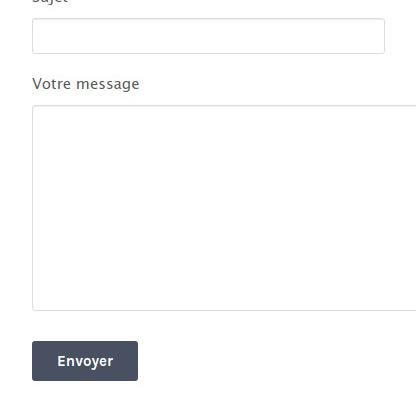button: (30, 339, 142, 382)
field: (28, 17, 388, 55)
